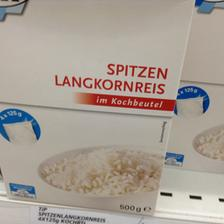Reis: (0, 0, 194, 216)
